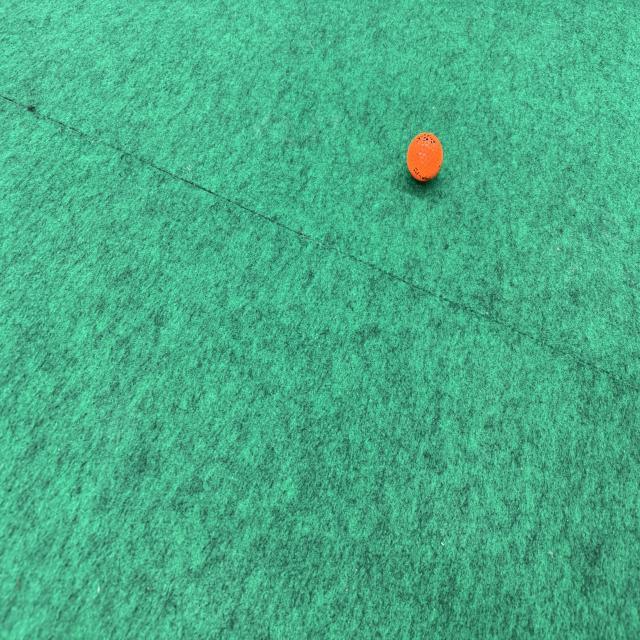ball: (407, 129, 446, 185)
